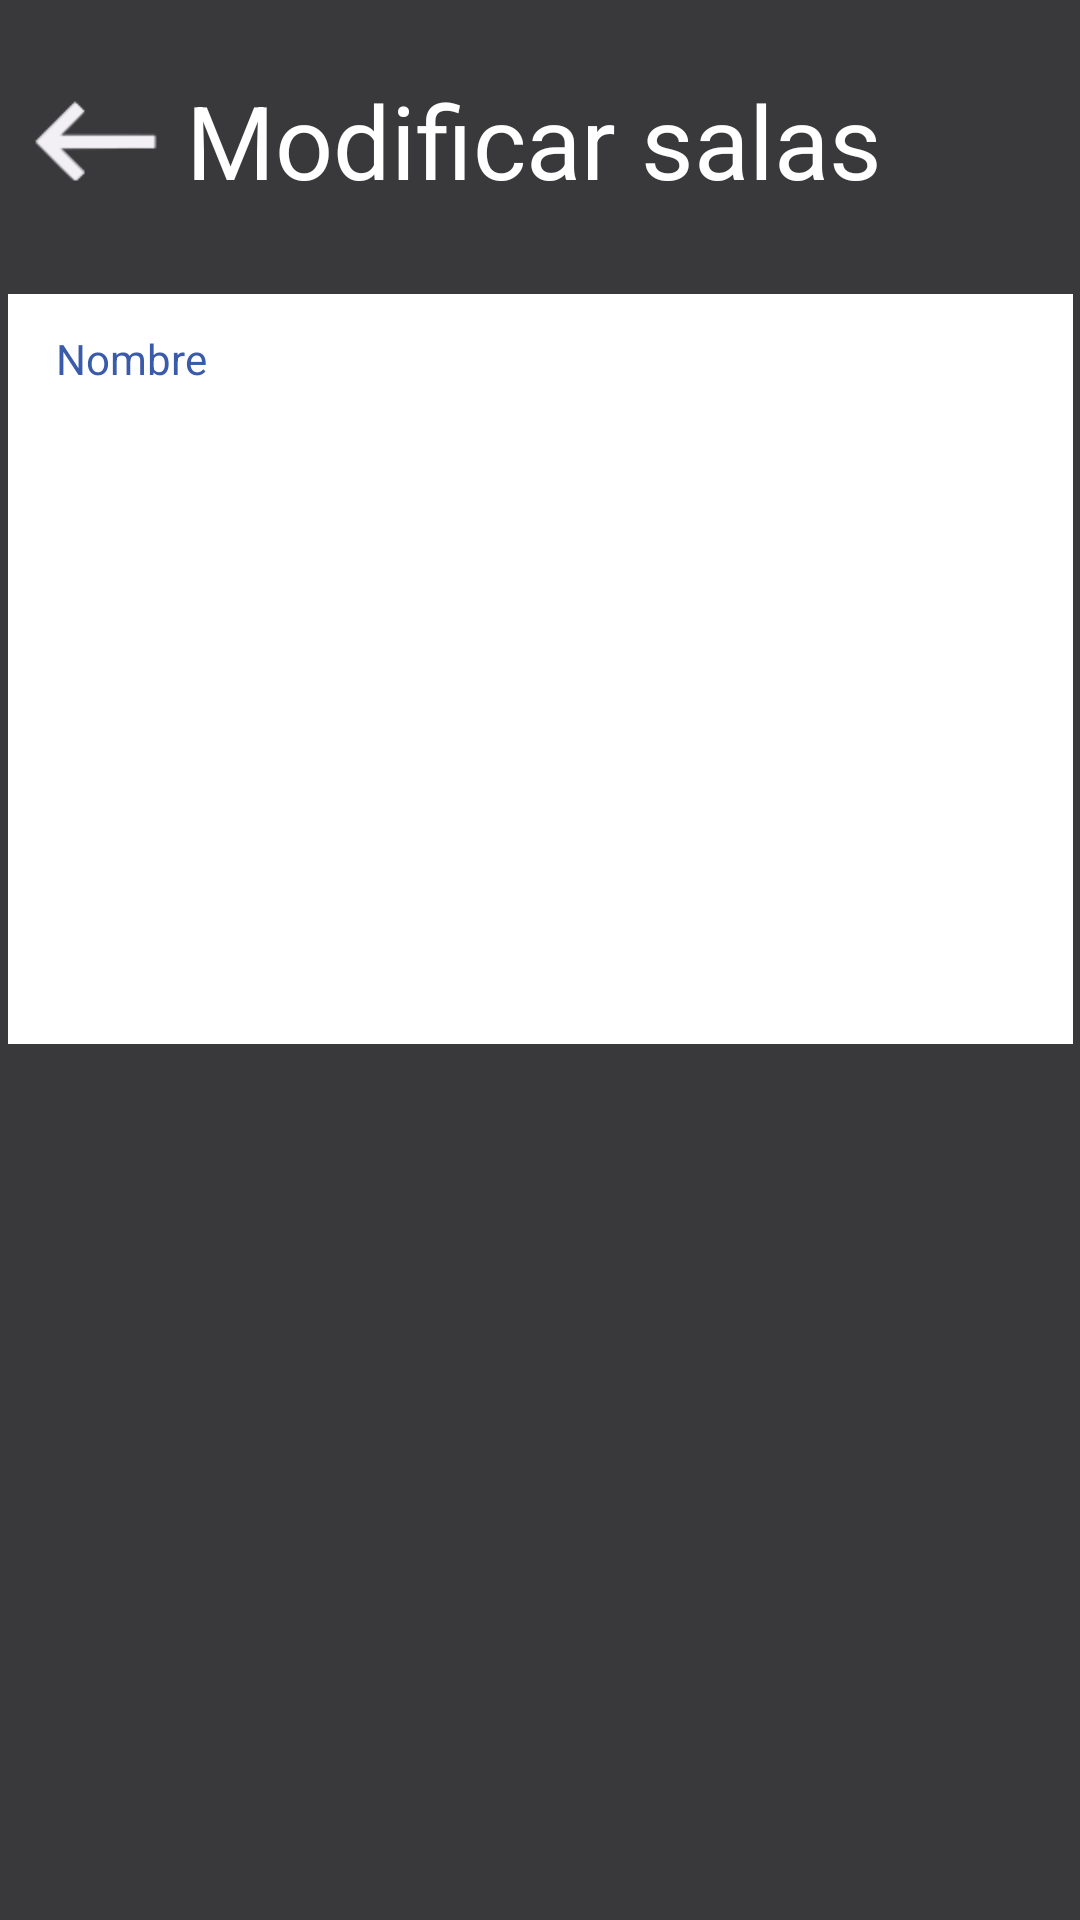

Where to tap for icons on this 1080w x 1920h app screen, as [x,y]:
backbutton: [96,141]
